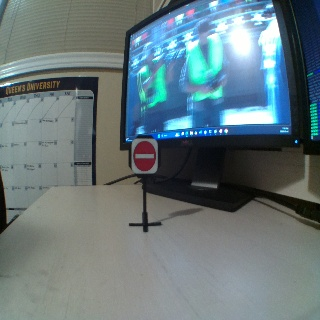sign_noentry: (129, 137, 158, 172)
